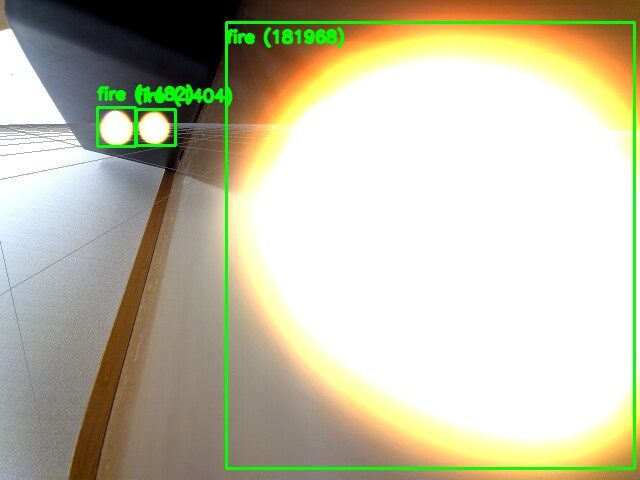fire: (226, 22, 634, 468), (97, 107, 135, 146), (136, 109, 175, 145)
